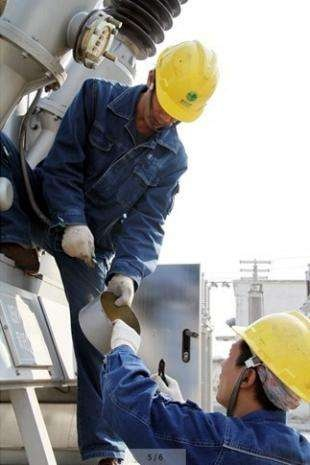yellow: (212, 308, 308, 415), (134, 36, 221, 132)
